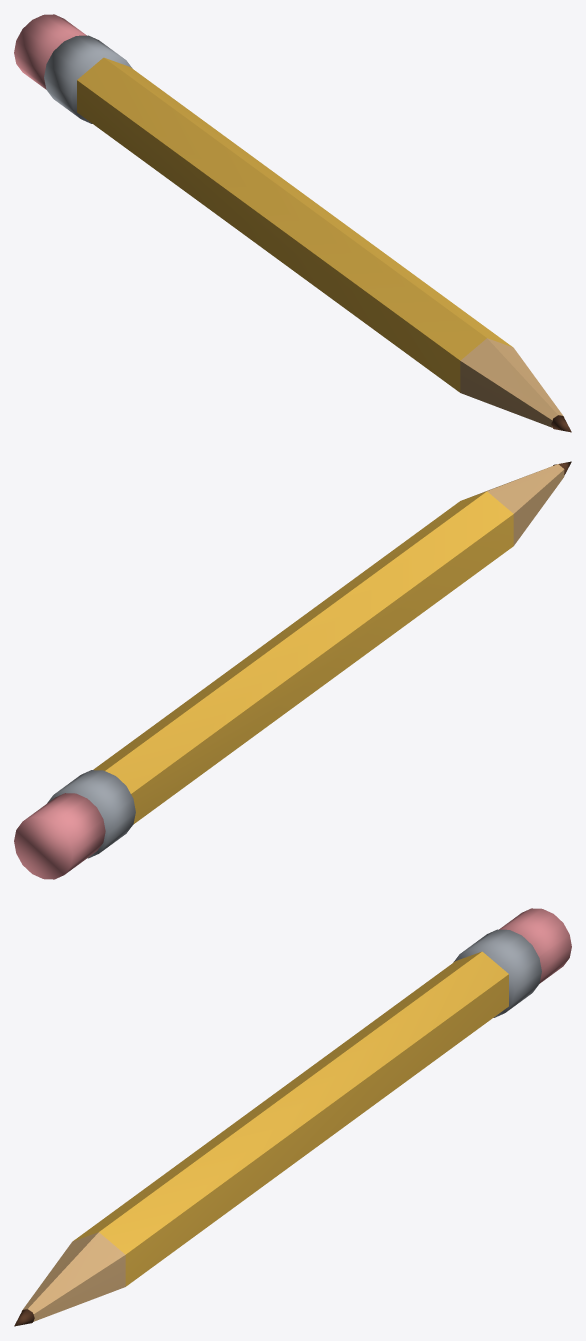
Rendered from den_pencil.glb.
3 renders of one model, top to bottom at view 1: azimuth 30°, elevation 25°; view 2: azimuth 150°, elevation 25°; view 3: azimuth 330°, elevation 25°, orthographic.
Visible parts, largest first — view 1: den_pencil; view 2: den_pencil; view 3: den_pencil.
Part boxes in pixels (x1,y1,x2,y2): den_pencil: [14, 14, 571, 432]; den_pencil: [14, 461, 571, 879]; den_pencil: [14, 908, 571, 1326].
Bounding box in the file's own units: 1.36 × 1.36 × 19.3.
